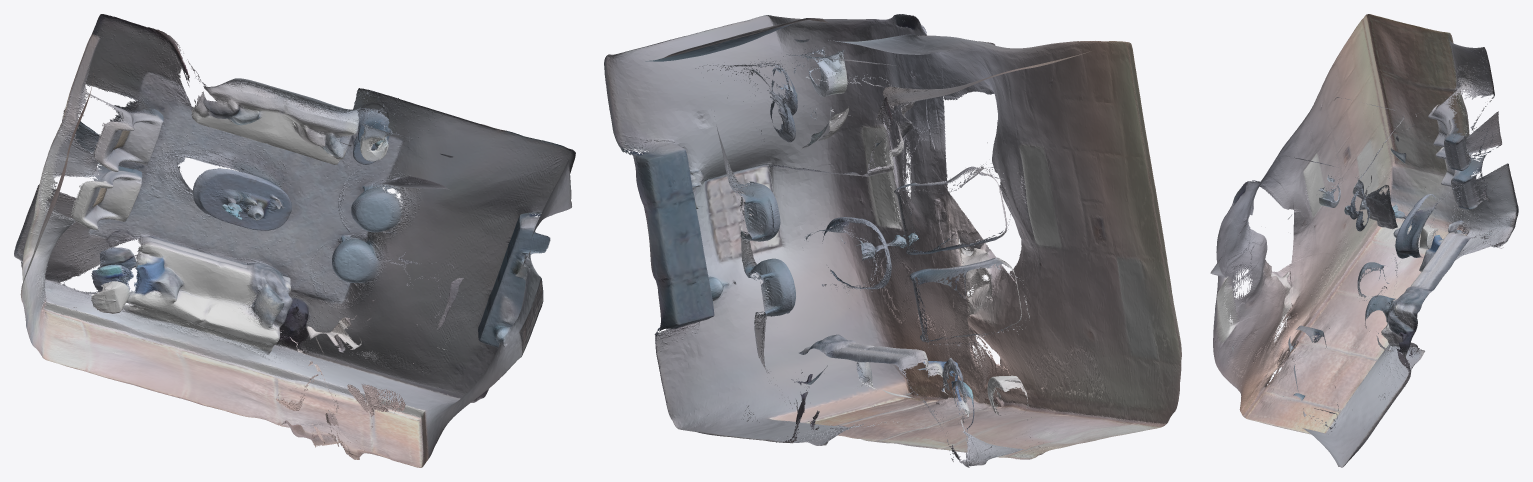
Rendered from 2dgs.glb.
3 renders of one model, left to right at view 1: azimuth 30°, elevation 25°; view 2: azimuth 150°, elevation 25°; view 3: azimuth 270°, elevation 25°, orthographic. The views are drawn at different scales.
Visible parts, largest first — view 1: geometry_0; view 2: geometry_0; view 3: geometry_0.
Part boxes in pixels (x1,y1,x2,y2): geometry_0: [14, 14, 575, 467]; geometry_0: [604, 14, 1181, 467]; geometry_0: [1210, 14, 1518, 467].
Bounding box in the file's own units: 56.61 × 43.03 × 38.31.
